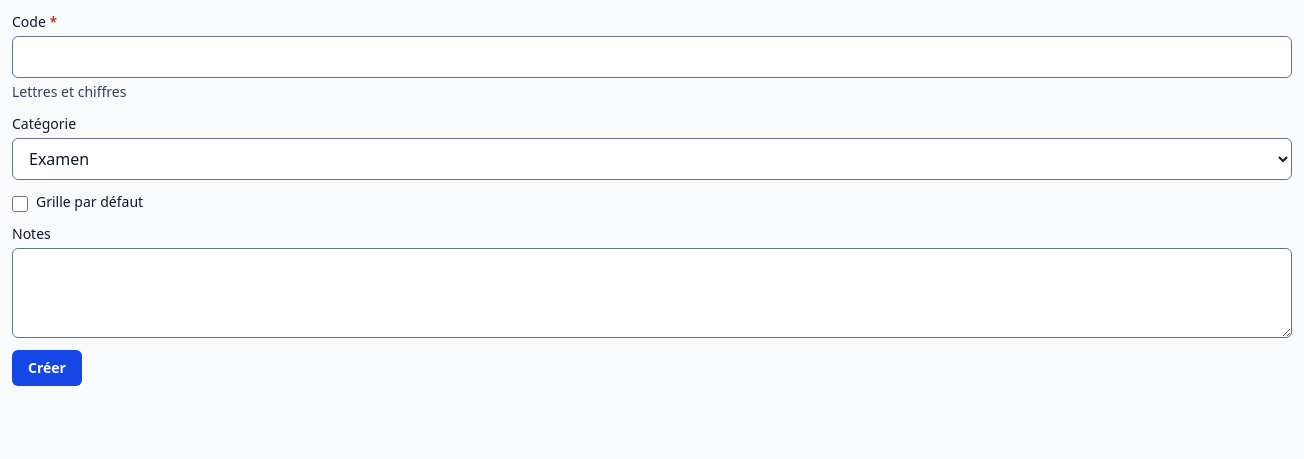
it: ActionForm › rend des champs étiquetés et soumet valeurs et champs cachés à l'action
Type "STD" into the field labelled "Code *".
click(652, 57); type("STD")  # box [12, 36, 1292, 78]
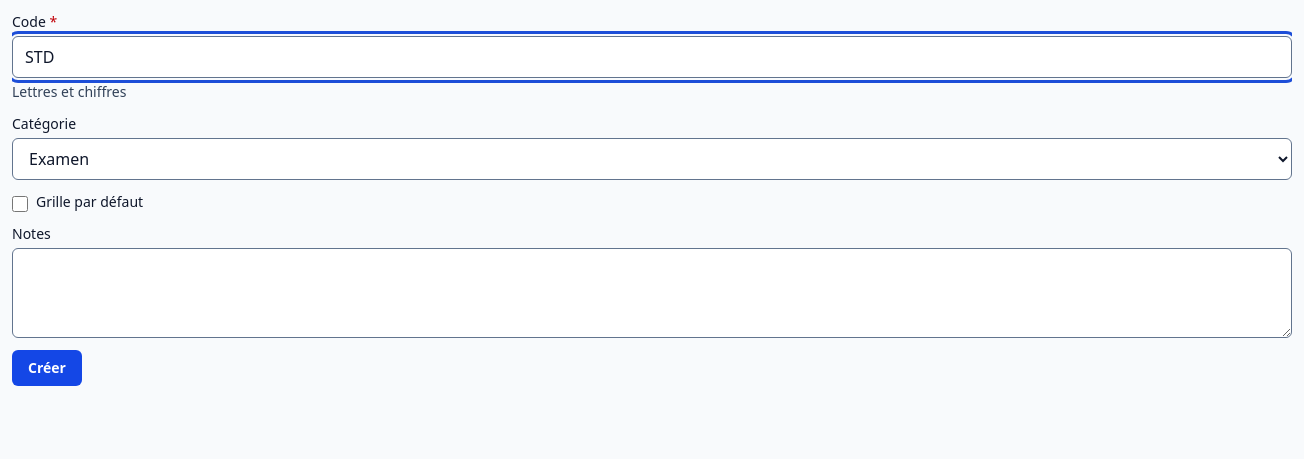
Select "Acte" in the dropdown labelled "Catégorie" at [652, 159], box [12, 138, 1292, 180]
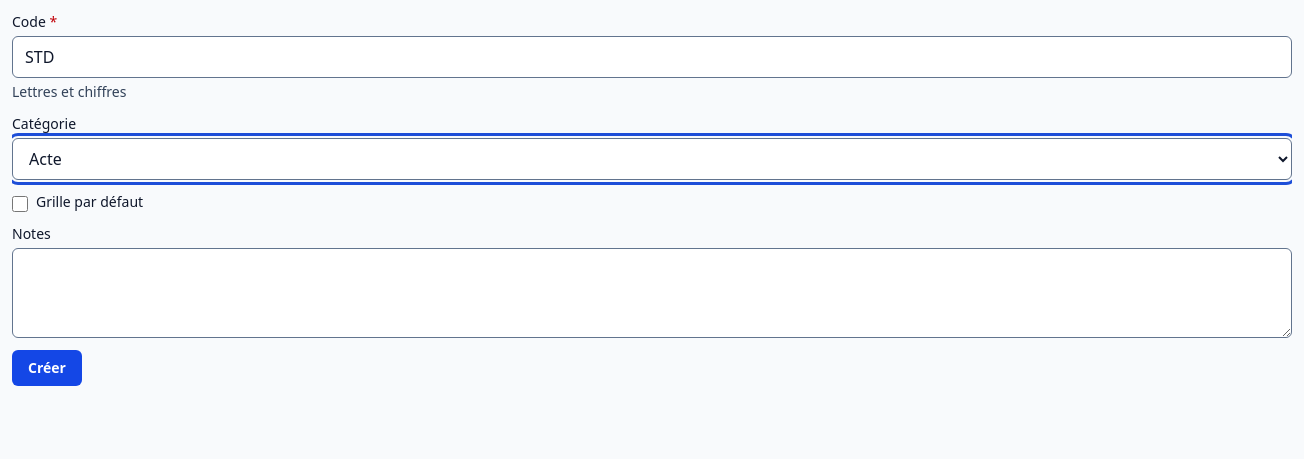
Click the checkbox labelled "Grille par défaut".
click(20, 204)  # box [12, 196, 28, 212]
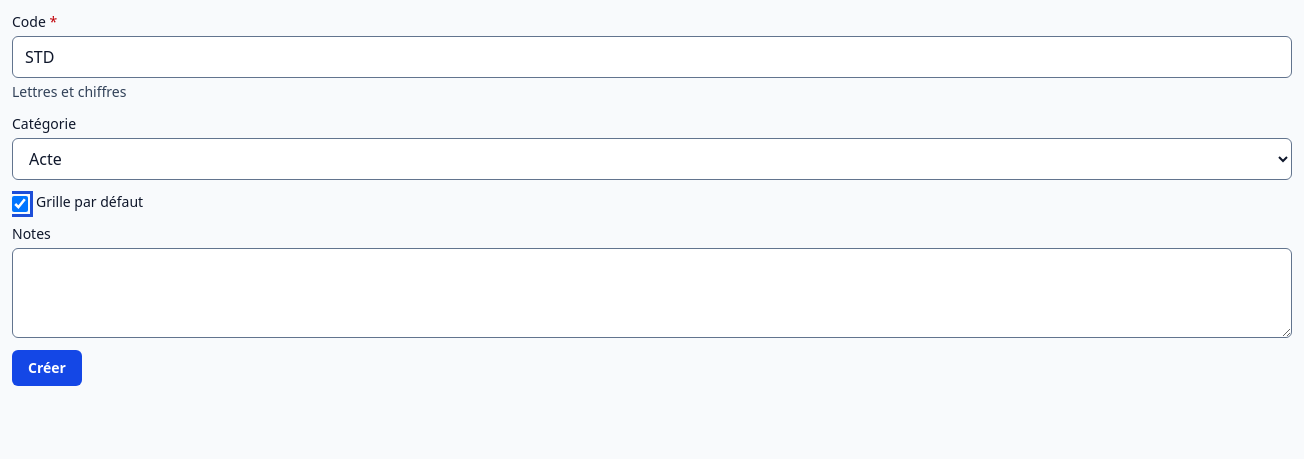
Type "RAS" into the text box labelled "Notes".
click(652, 293); type("RAS")  # box [12, 248, 1292, 338]
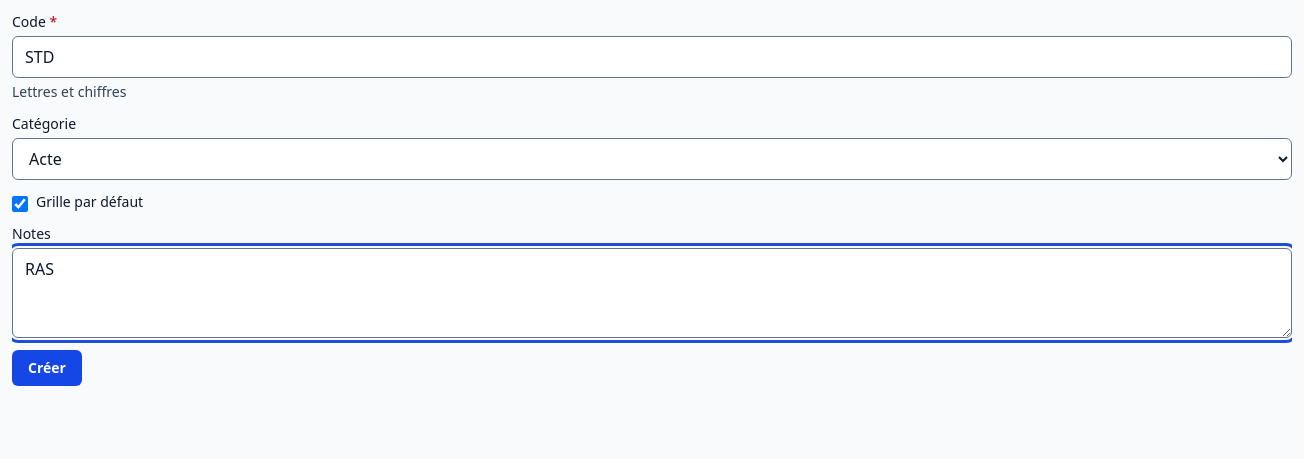
Click the button "Créer".
click(47, 368)  # box [12, 350, 82, 386]
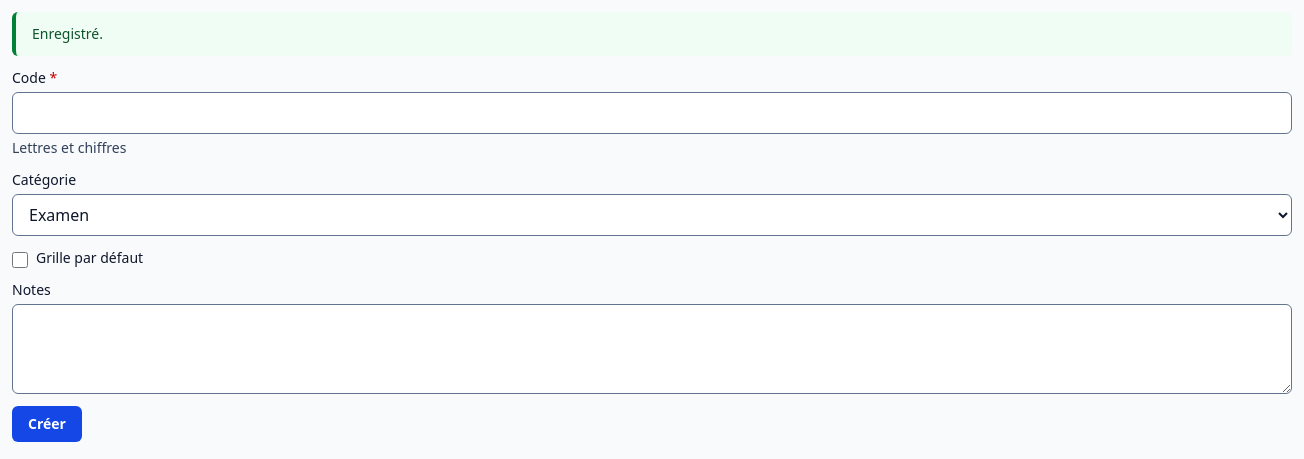
Expected: the message reads "Enregistré.", [32, 24, 103, 43]
